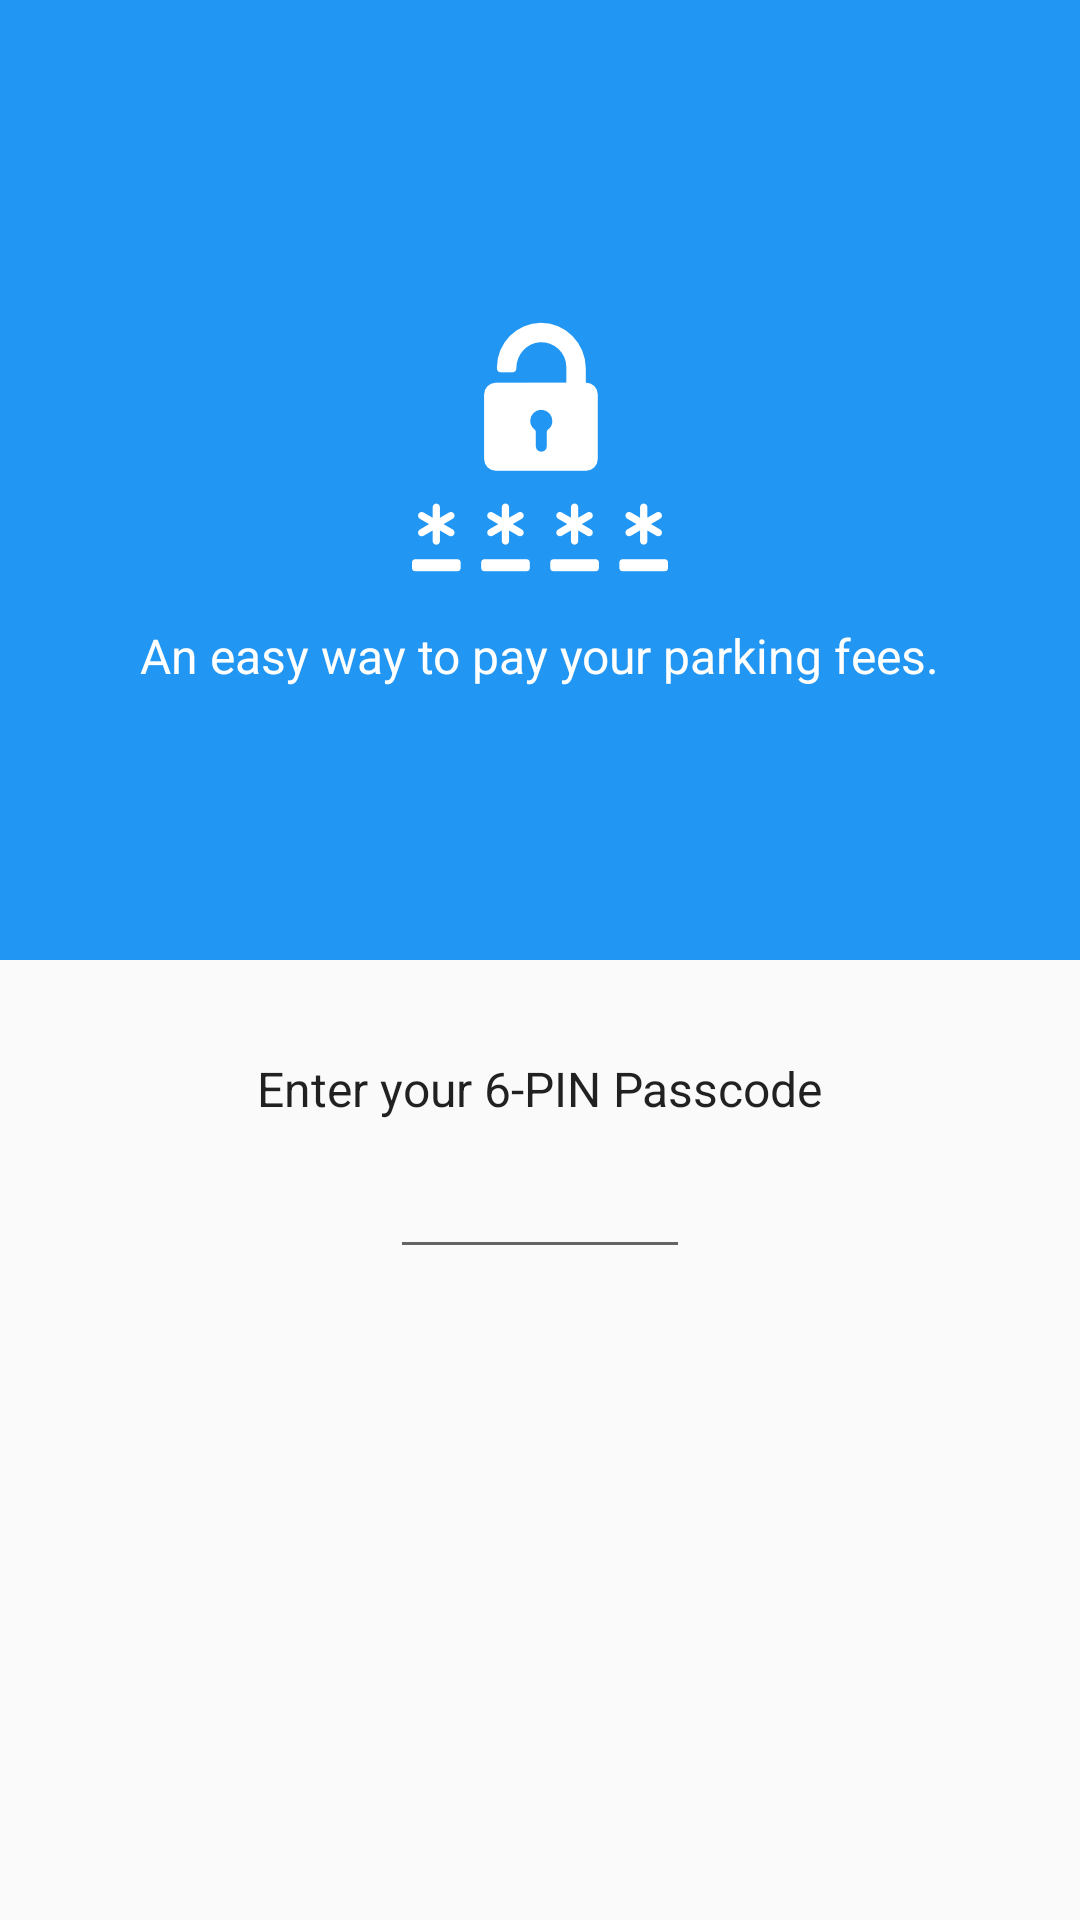

Icon bounding boxes for this 1080w x 1920h phone screenshot, format box(x1, y1, x2, y2):
password: box(412, 322, 668, 572)
